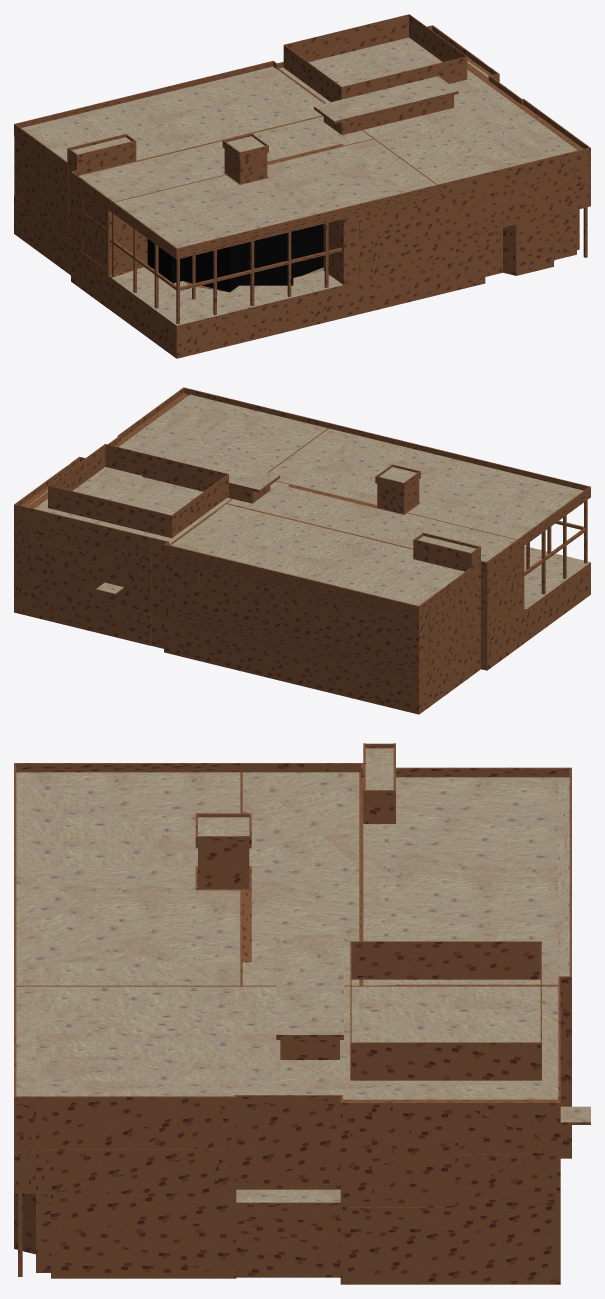
The model's file is bts.obj.
3 renders of one model, top to bottom at view 1: azimuth 30°, elevation 25°; view 2: azimuth 150°, elevation 25°; view 3: azimuth 270°, elevation 25°, orthographic. The views are drawn at different scales.
Visible parts, largest first — view 1: No_Name; view 2: No_Name; view 3: No_Name.
Boxes of the visible parts, box(x1,y1,x2,y2) form: No_Name: box(14, 14, 590, 358); No_Name: box(14, 387, 590, 714); No_Name: box(14, 743, 590, 1284).
Size of the model in its own units: 10.07 by 3.07 by 7.1.
